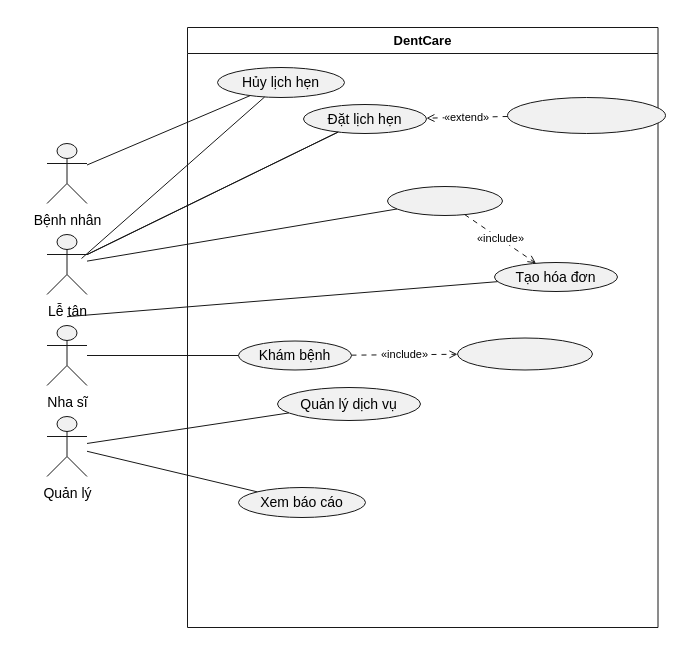
Some shapes in this 683 by 645 pixel diagram are drawn without their labels. The centre of each missing label's shape, as x and y in pixels:
"Ghi nhận hồ sơ" belongs at pixel 524 353.
"Gửi SMS nhắc hẹn" belongs at pixel 586 115.
"Thanh toán" belongs at pixel 444 201.
